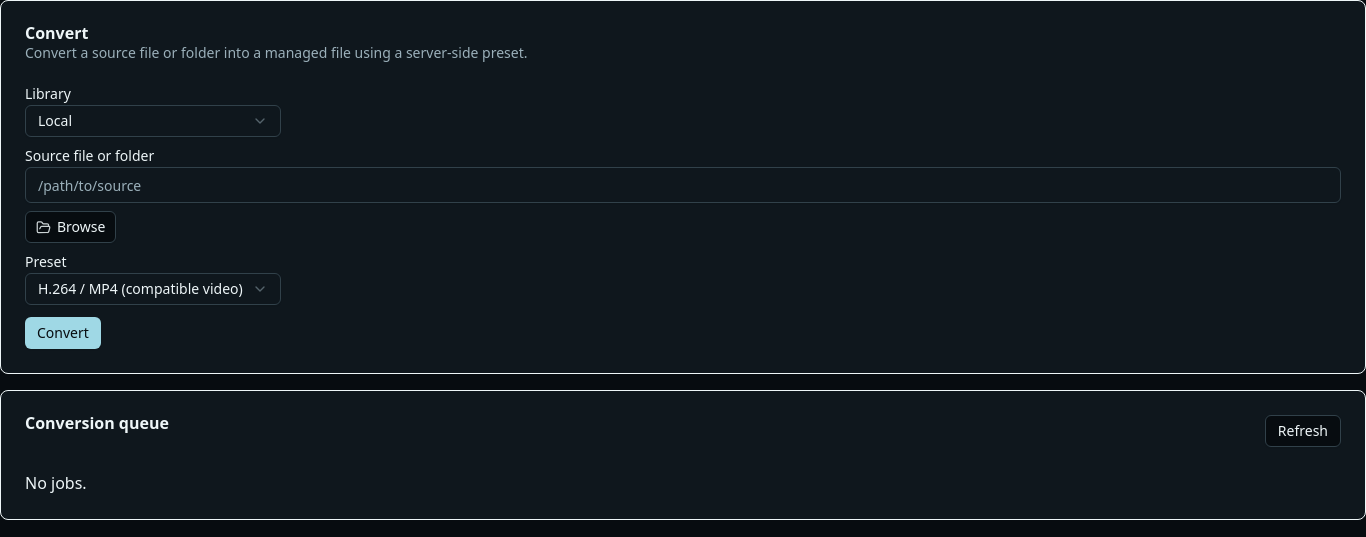
it: ConvertPage › degrades gracefully when the server has no convert enqueue field
expect the button "Convert" is shown: met, box [25,317,101,349]
# Provide a source path then start the conversion.
Type "/srv/media/a.mov" into the field labelled "Source file or folder" at (683, 185), box [25,167,1341,203]
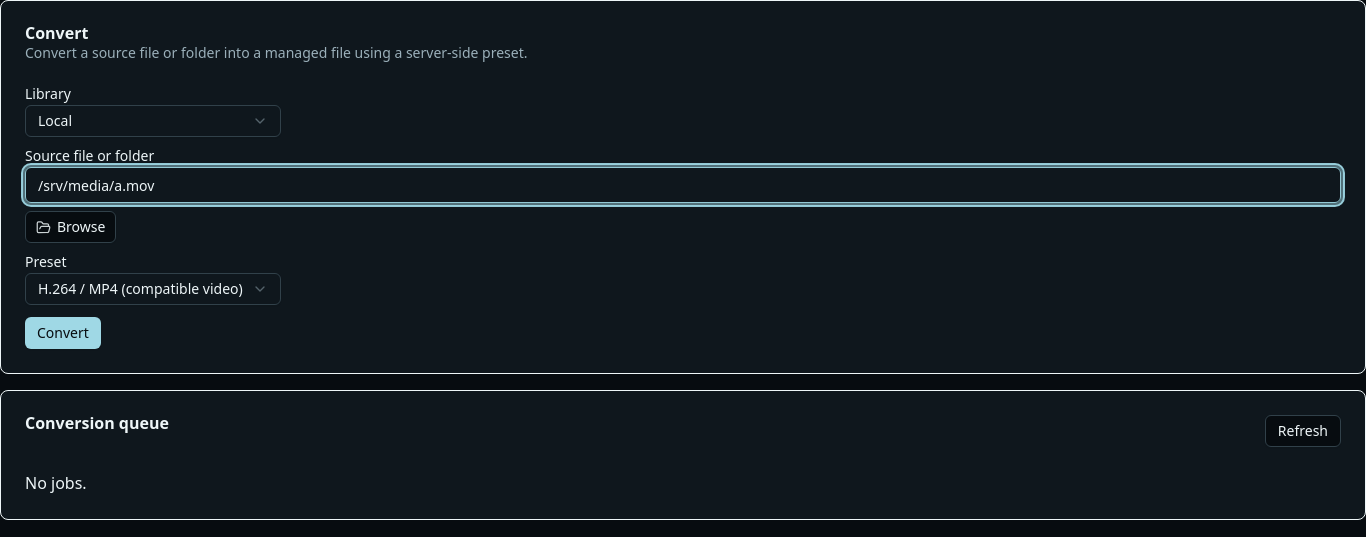
Click the button "Convert" at (63, 333), box [25,317,101,349]
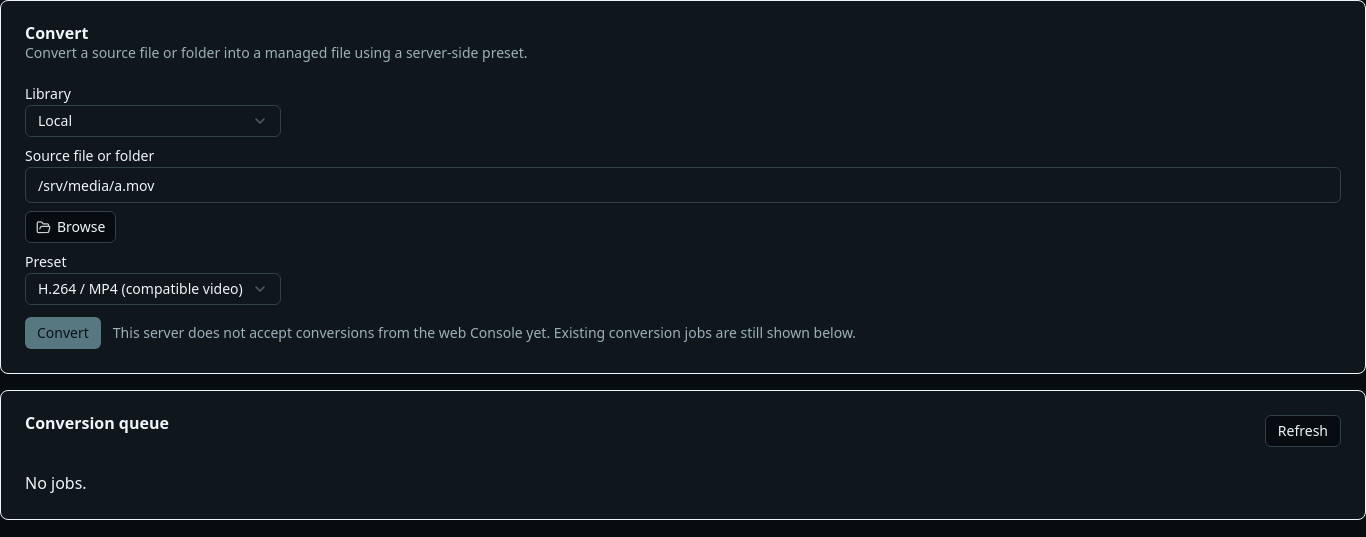
expect the text "does not accept conversions from the web Console" is shown: met, box [113,323,856,342]
expect the button "Convert" is disabled: met, box [25,317,101,349]
